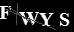F: (1, 5, 12, 20)
S: (59, 12, 69, 27)
W: (17, 11, 39, 26)
Y: (38, 12, 54, 27)
